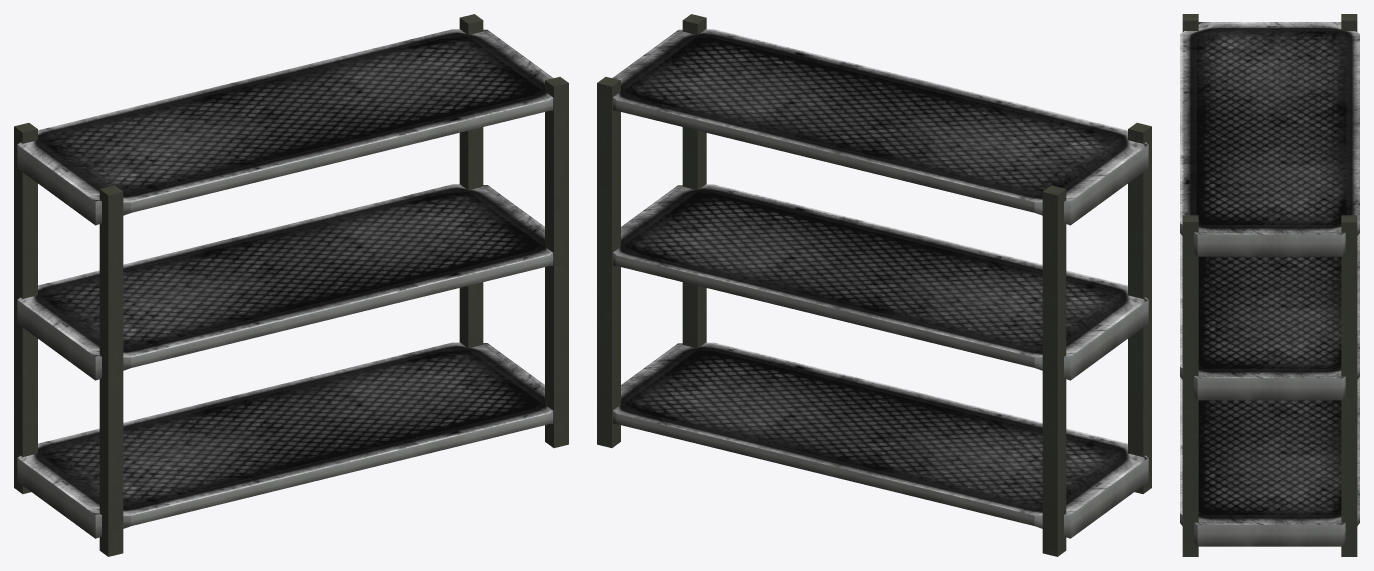
The model's file is Shelf02.fbx.
3 views of the same model, side by side, from view 1: azimuth 30°, elevation 25°; view 2: azimuth 150°, elevation 25°; view 3: azimuth 270°, elevation 25° (orthographic). The views are drawn at different scales.
Parts seen in each view (by area): view 1: Shelf02; view 2: Shelf02; view 3: Shelf02.
Part boxes in pixels (x1,y1,x2,y2): Shelf02: (14,14,568,556); Shelf02: (597,14,1151,556); Shelf02: (1180,14,1359,556).
Bounding box in the file's own units: 190 × 140 × 68.01.
